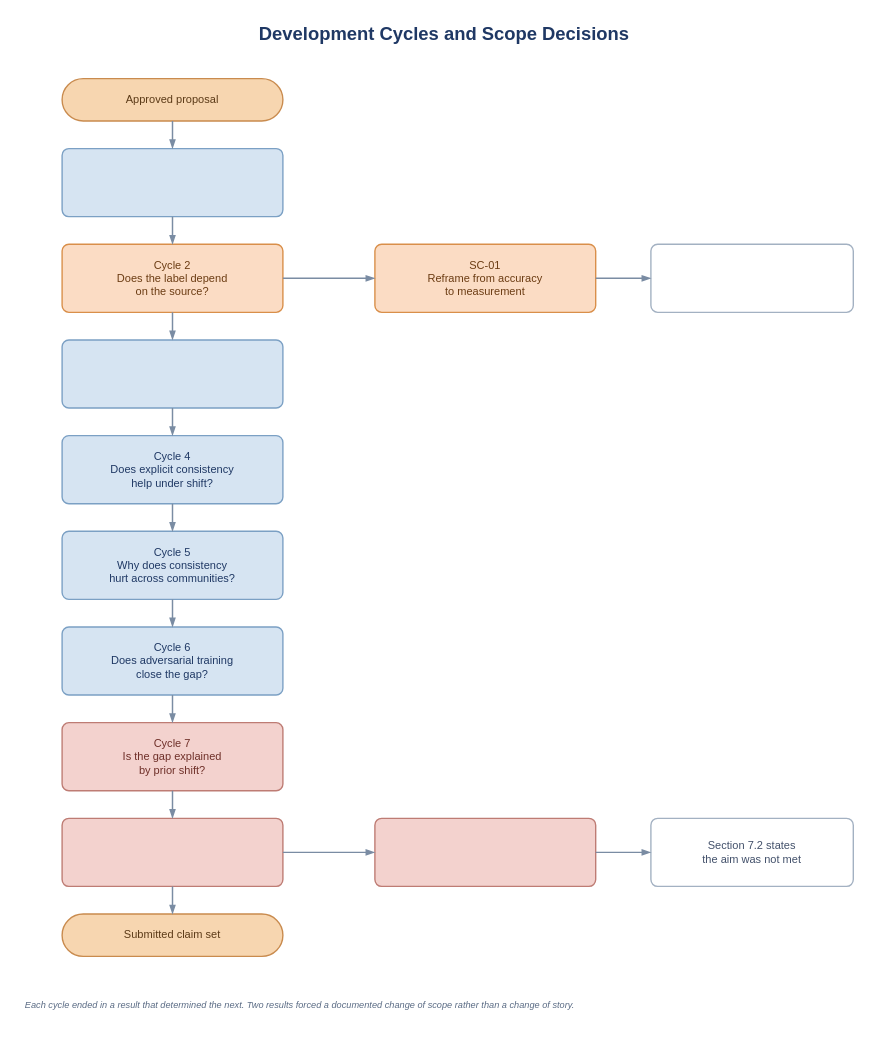
Image size: 887x1050. Some labels were removed from this diagram. The shapes that lost their labels are listed below. From the top down, each one's centre as x and y in pixels, then its label:
At (x=172, y=182): "Cycle 1 Can the corpus be built reproducibly?".
At (x=752, y=278): "Two planned fusion variants dropped".
At (x=172, y=373): "Cycle 3 Does the gap survive a corrected split?".
At (x=172, y=852): "Cycle 8 Is the architectural margin identifiable?".
At (x=485, y=852): "SC-02 Withdraw the architectural claim".
